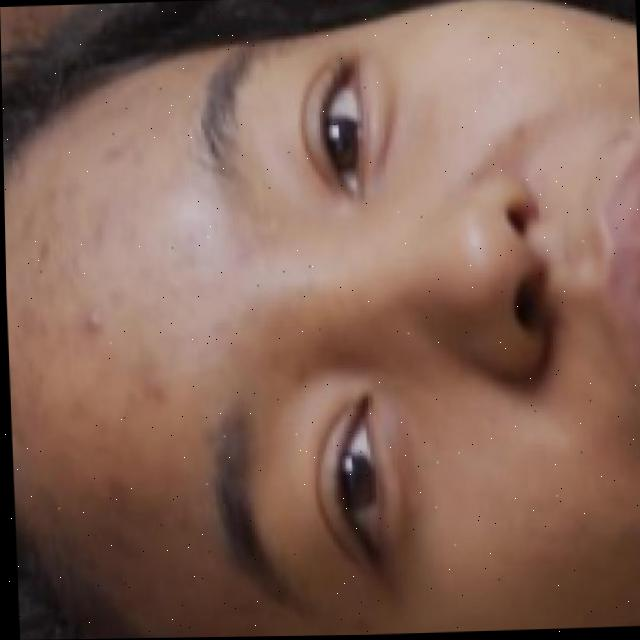Acne: (82, 311, 121, 339)
